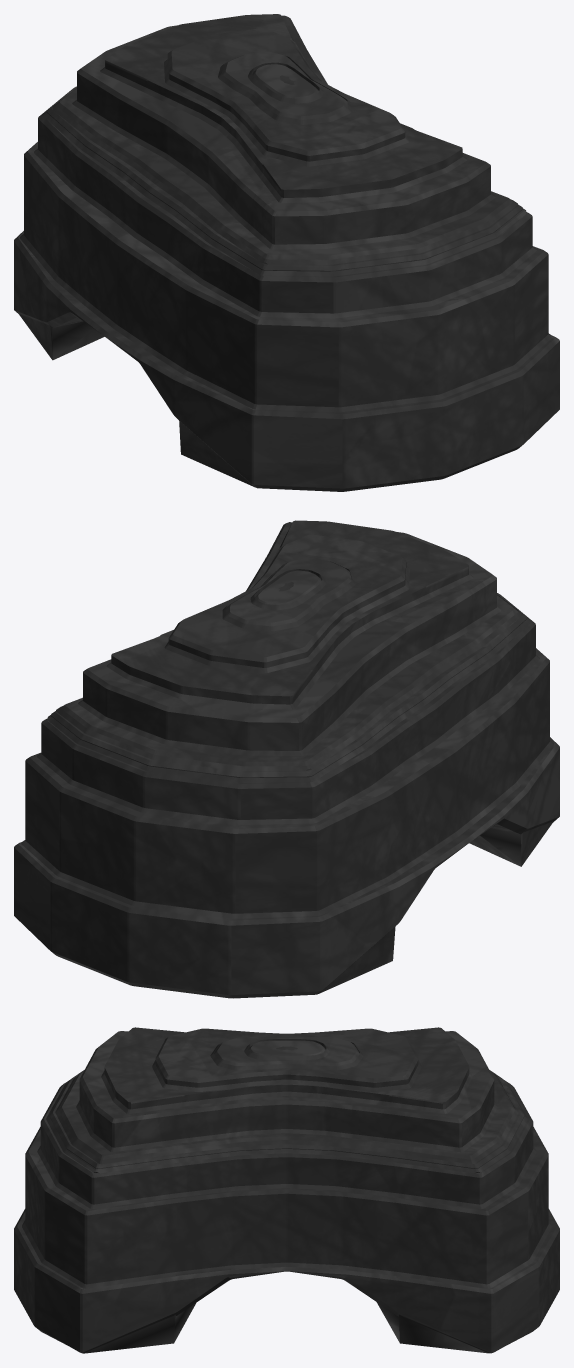
The model's file is Tutorial_canyonTunnel.fbx.
3 views of the same model, one above another, from view 1: azimuth 30°, elevation 25°; view 2: azimuth 150°, elevation 25°; view 3: azimuth 270°, elevation 25° (orthographic). The views are drawn at different scales.
Parts seen in each view (by area): view 1: canyonTunnel; view 2: canyonTunnel; view 3: canyonTunnel.
Part boxes in pixels (<box>): canyonTunnel: <box>14,14,559,491</box>; canyonTunnel: <box>14,520,559,998</box>; canyonTunnel: <box>14,1027,559,1353</box>.
Bounding box in the file's own units: 108 × 87.14 × 175.
Materials: 1 (1 with a texture image).
